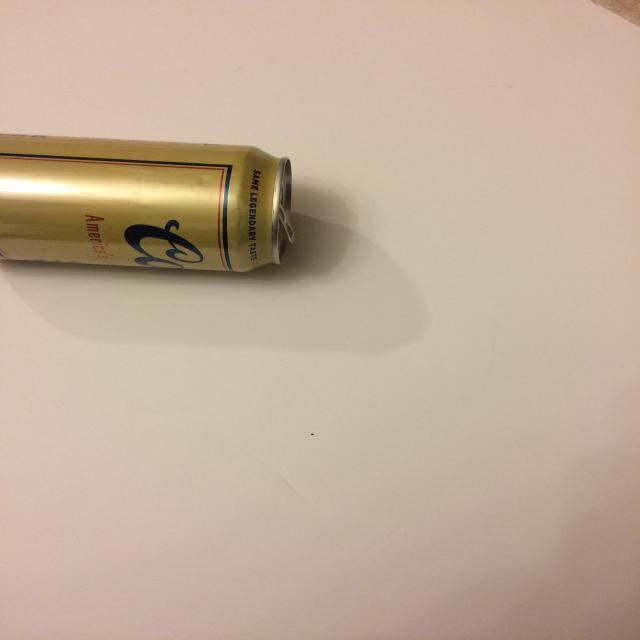metal: (1, 130, 298, 274)
